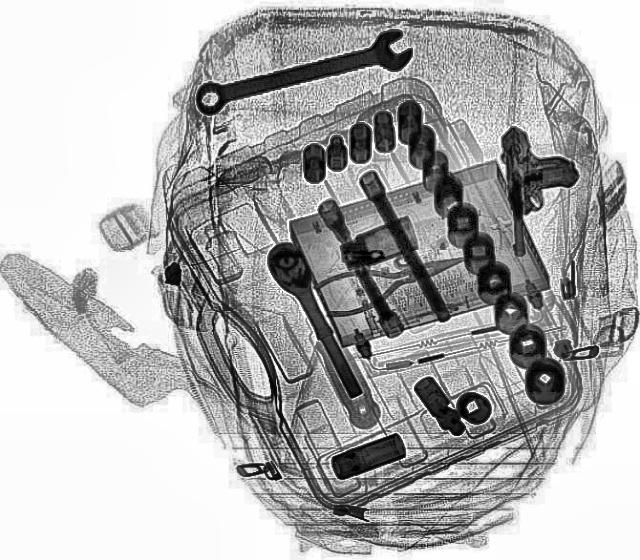Gun: (498, 124, 580, 255)
Pliers: (308, 240, 474, 322)
Wrench: (189, 24, 419, 124)
